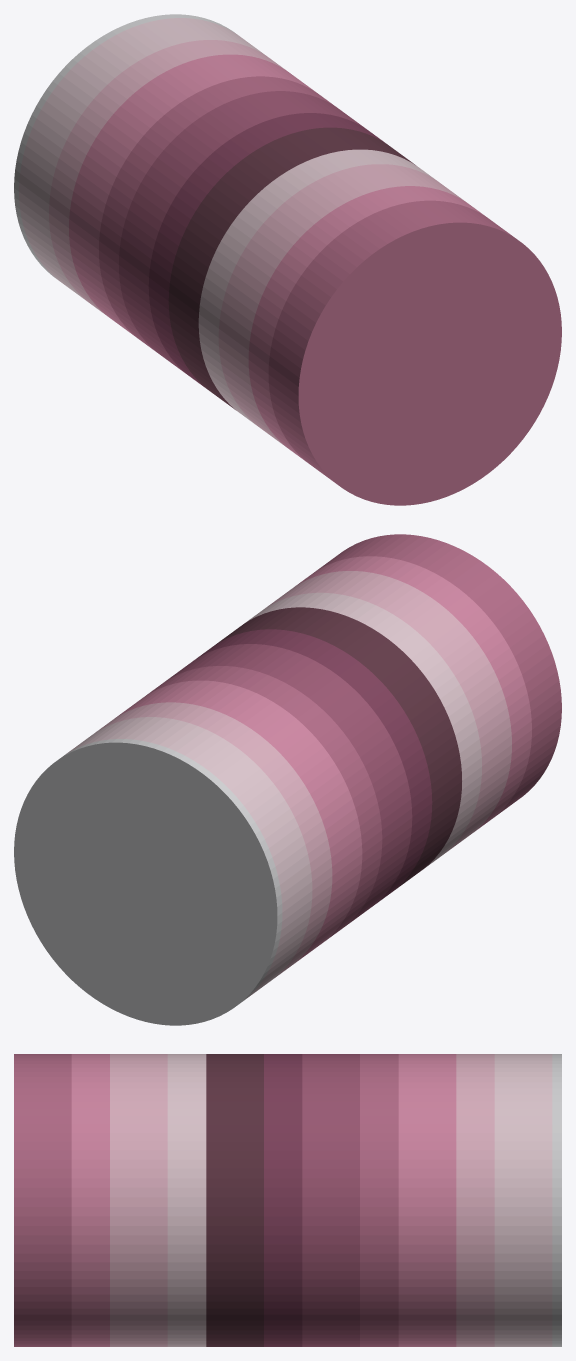
Rendered from cake_6in_layers6.glb.
3 views of the same model, one above another, from view 1: azimuth 30°, elevation 25°; view 2: azimuth 150°, elevation 25°; view 3: azimuth 270°, elevation 25° (orthographic). The views are drawn at different scales.
Visible parts, largest first — view 1: geometry_10, geometry_8, geometry_6, geometry_0, geometry_4, geometry_2, geometry_9, geometry_7, geometry_1, geometry_3, geometry_5, geometry_11; view 2: geometry_11, geometry_0, geometry_10, geometry_4, geometry_6, geometry_8, geometry_2, geometry_1, geometry_7, geometry_9, geometry_3, geometry_5; view 3: geometry_0, geometry_2, geometry_4, geometry_6, geometry_8, geometry_10, geometry_7, geometry_1, geometry_3, geometry_5, geometry_9, geometry_11.
Boxes of the visible parts, x1,y1,x2,y2 form: geometry_10: [268, 200, 561, 505]; geometry_8: [218, 164, 465, 446]; geometry_6: [168, 127, 414, 409]; geometry_0: [19, 18, 265, 300]; geometry_4: [118, 91, 365, 373]; geometry_2: [69, 54, 315, 337]; geometry_9: [248, 186, 485, 461]; geometry_7: [198, 149, 435, 424]; geometry_1: [49, 40, 285, 315]; geometry_3: [99, 76, 335, 351]; geometry_5: [148, 113, 384, 387]; geometry_11: [14, 14, 235, 277]; geometry_11: [14, 739, 282, 1025]; geometry_0: [66, 717, 312, 999]; geometry_10: [315, 534, 561, 817]; geometry_4: [165, 644, 412, 926]; geometry_6: [215, 607, 461, 889]; geometry_8: [266, 571, 511, 853]; geometry_2: [116, 680, 362, 962]; geometry_1: [95, 702, 332, 977]; geometry_7: [244, 592, 481, 868]; geometry_9: [295, 556, 531, 831]; geometry_3: [146, 666, 382, 940]; geometry_5: [196, 629, 432, 904]; geometry_0: [494, 1054, 552, 1346]; geometry_2: [398, 1054, 456, 1346]; geometry_4: [302, 1054, 359, 1346]; geometry_6: [206, 1054, 263, 1346]; geometry_8: [110, 1054, 167, 1346]; geometry_10: [14, 1054, 71, 1346]; geometry_7: [167, 1054, 206, 1346]; geometry_1: [456, 1054, 494, 1346]; geometry_3: [360, 1054, 398, 1346]; geometry_5: [264, 1054, 302, 1346]; geometry_9: [71, 1054, 109, 1346]; geometry_11: [552, 1054, 561, 1346].
Size of the model in its own units: 0.1524 by 0.1524 by 0.285.
